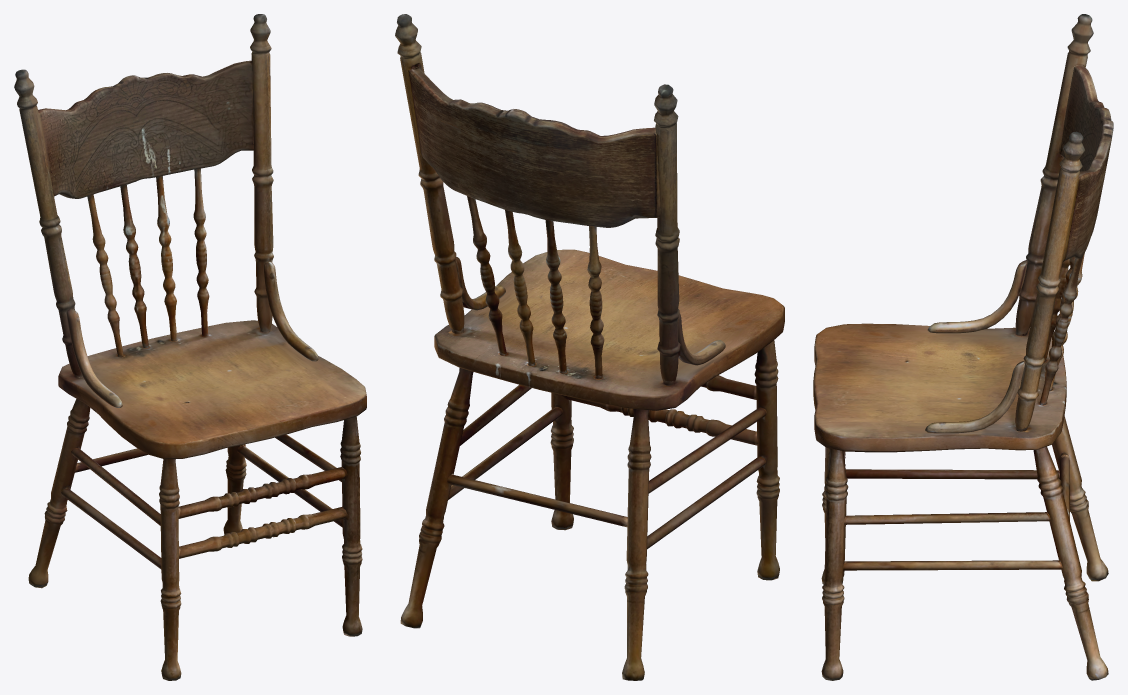
Rendered from wooden_dining_chair.gltf.
3 views of the same model, side by side, from view 1: azimuth 30°, elevation 25°; view 2: azimuth 150°, elevation 25°; view 3: azimuth 270°, elevation 25° (orthographic). The views are drawn at different scales.
Visible parts, largest first — view 1: Object_2; view 2: Object_2; view 3: Object_2.
Part boxes in pixels (<box>): Object_2: <box>14,14,366,680</box>; Object_2: <box>395,14,784,680</box>; Object_2: <box>813,14,1113,680</box>.
Size of the model in its own units: 0.4891 by 0.9841 by 0.4826.
1 material, 1 textured.
